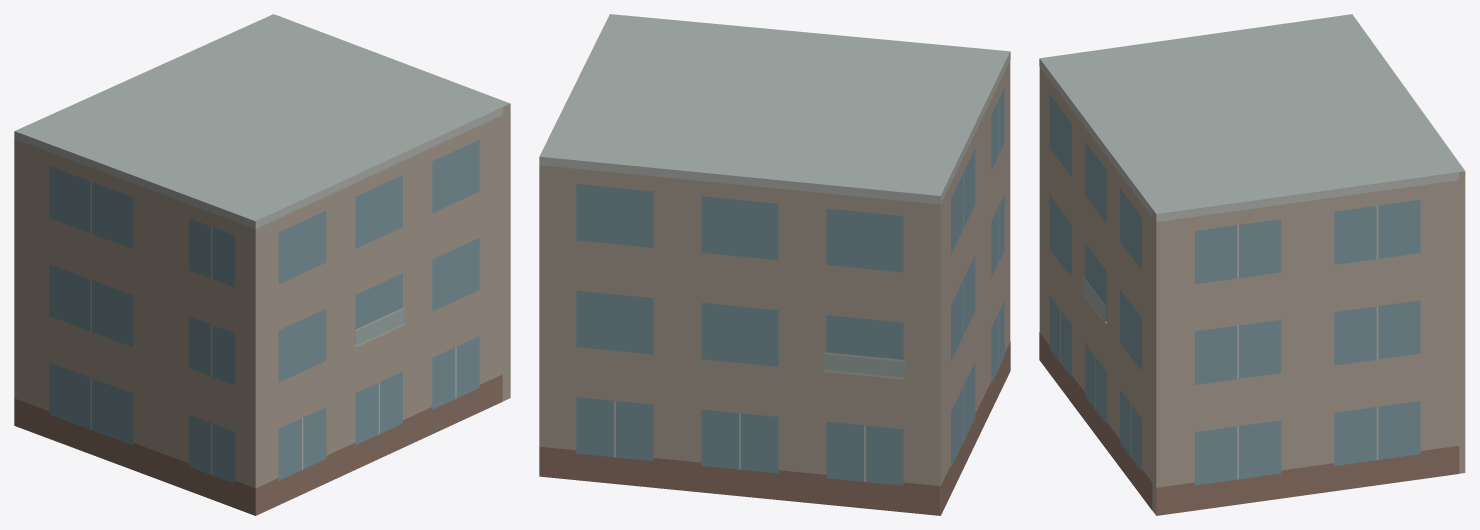
File: survey-upis-32614755.glb
3 renders of one model, left to right at view 1: azimuth 30°, elevation 25°; view 2: azimuth 150°, elevation 25°; view 3: azimuth 270°, elevation 25°, orthographic. The views are drawn at different scales.
Visible parts, largest first — view 1: survey-upis-32614755.tmp; view 2: survey-upis-32614755.tmp; view 3: survey-upis-32614755.tmp.
Part boxes in pixels (left/top/right/bottom): survey-upis-32614755.tmp: left=14, top=14, right=510, bottom=515; survey-upis-32614755.tmp: left=539, top=14, right=1010, bottom=515; survey-upis-32614755.tmp: left=1039, top=14, right=1465, bottom=515.
Bounding box in the file's own units: 13.02 × 9.15 × 11.72.
